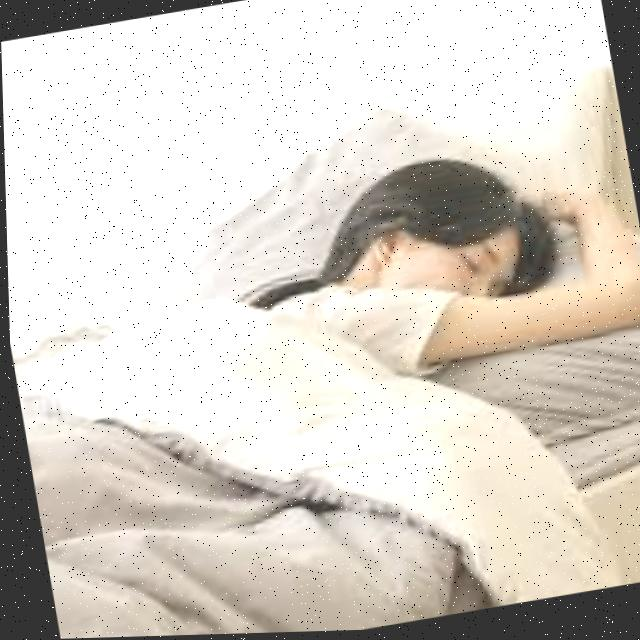sleeping-person: (3, 121, 640, 640)
